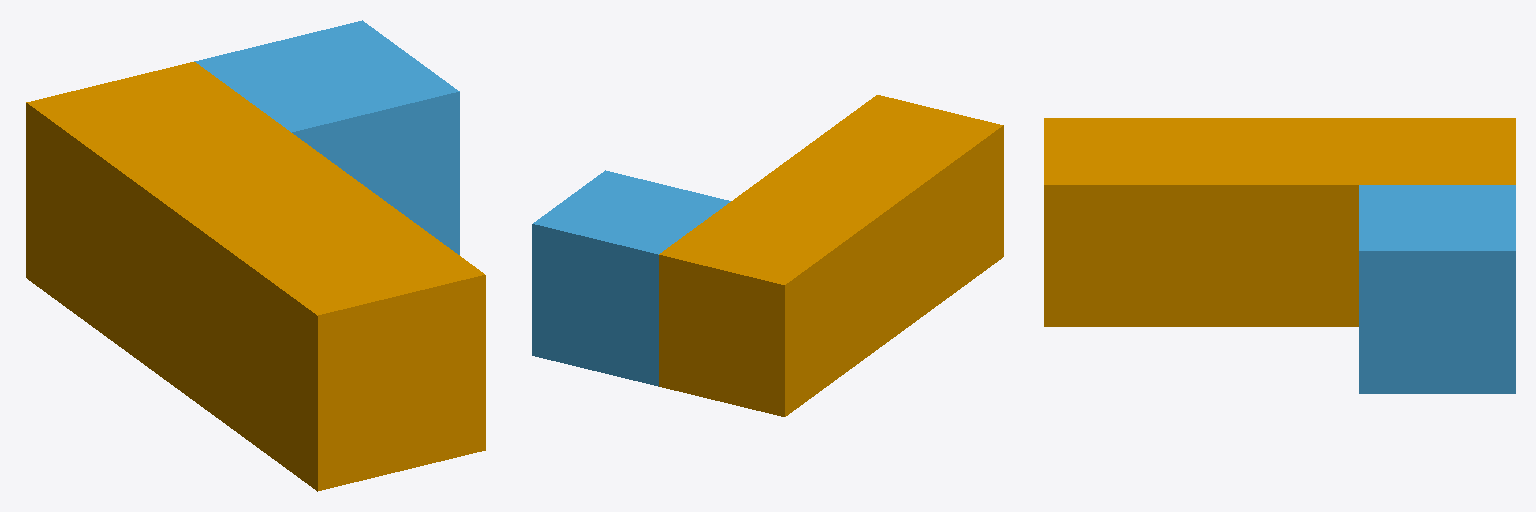
The robot description file, URDF, robot "multipleshapes":
<?xml version="1.0"?>
<robot name="multipleshapes">
  <link name="cuboid">
    <inertial>
      <mass value="2"/>
    	<inertia ixx="0.333" ixy="0" ixz="0" iyy="0.833" iyz="0" izz="0.833"/>
  	</inertial>
    <collision>
      <geometry>
        <box size="1 3 1"/>
      </geometry>
    </collision>
    <visual>
      <geometry>
        <box size="1 3 1"/>
      </geometry>
    </visual>
  </link>

  <link name="cube">

    <inertial>
      <mass value="1"/>
    	<inertia ixx="0.167" ixy="0" ixz="0" iyy="0.167" iyz="0" izz="0.167"/>
  	</inertial>

    <collision>
      <geometry>
        <box size="1 1 1"/>
      </geometry>
	<origin rpy="0 0 0" xyz="1 1 0"/>
    </collision>
    <visual>
      <geometry>
        <box size="1 1 1"/>
      </geometry>
	<origin rpy="0 0 0" xyz="1 1 0"/>
    </visual>
  </link>

  <joint name="base_to_right_leg" type="fixed">
    <parent link="cuboid"/>
    <child link="cube"/>
  </joint>

</robot>

--- Facts derived from the render (not from the file) ---
Views: 3 orthographic renders of the robot side by side, from view 1: azimuth 30°, elevation 25°; view 2: azimuth 150°, elevation 25°; view 3: azimuth 270°, elevation 25°.
Model multipleshapes with 2 links and 1 joints (1 fixed), rooted at cuboid, posed all joints at 0.
Links seen in each view (by area): view 1: cuboid, cube; view 2: cuboid, cube; view 3: cuboid, cube.
Boxes of the visible links, box(x1,y1,x2,y2) form: cuboid: box(26, 62, 485, 491); cube: box(194, 20, 459, 254); cuboid: box(659, 95, 1003, 416); cube: box(532, 170, 730, 386); cuboid: box(1044, 118, 1515, 326); cube: box(1359, 185, 1515, 393).
Size in the robot's own frame: 2 by 3 by 1 metres.
Geometry: primitives only (box / cylinder / sphere), no mesh files.